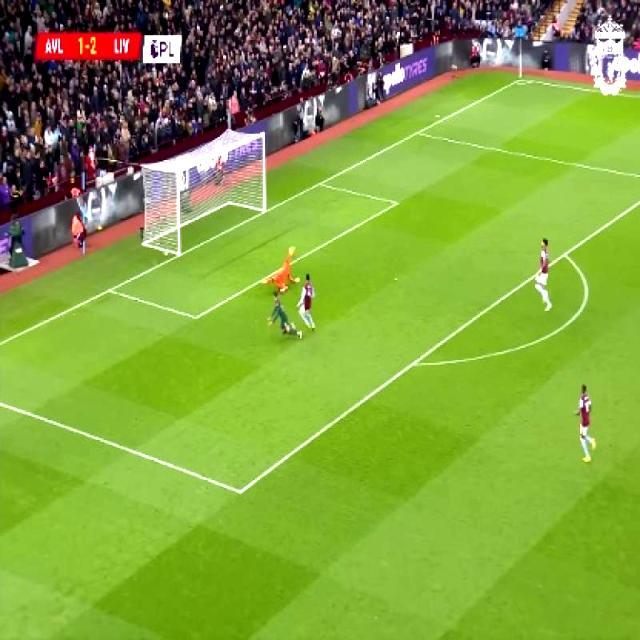bigarea_bottom_inner: (228, 476, 250, 506)
bigarea_top_outter: (410, 122, 424, 140)
bottom_arc_area_intersection: (403, 350, 423, 375)
corner: (511, 71, 531, 86)
smallarea_bottom_inner: (184, 301, 206, 331)
smallarea_bottom_outter: (100, 277, 118, 300)
smallarea_top_inner: (386, 191, 404, 212)
smallarea_top_outter: (310, 172, 328, 194)
top_arc_area_intersection: (558, 243, 572, 263)
